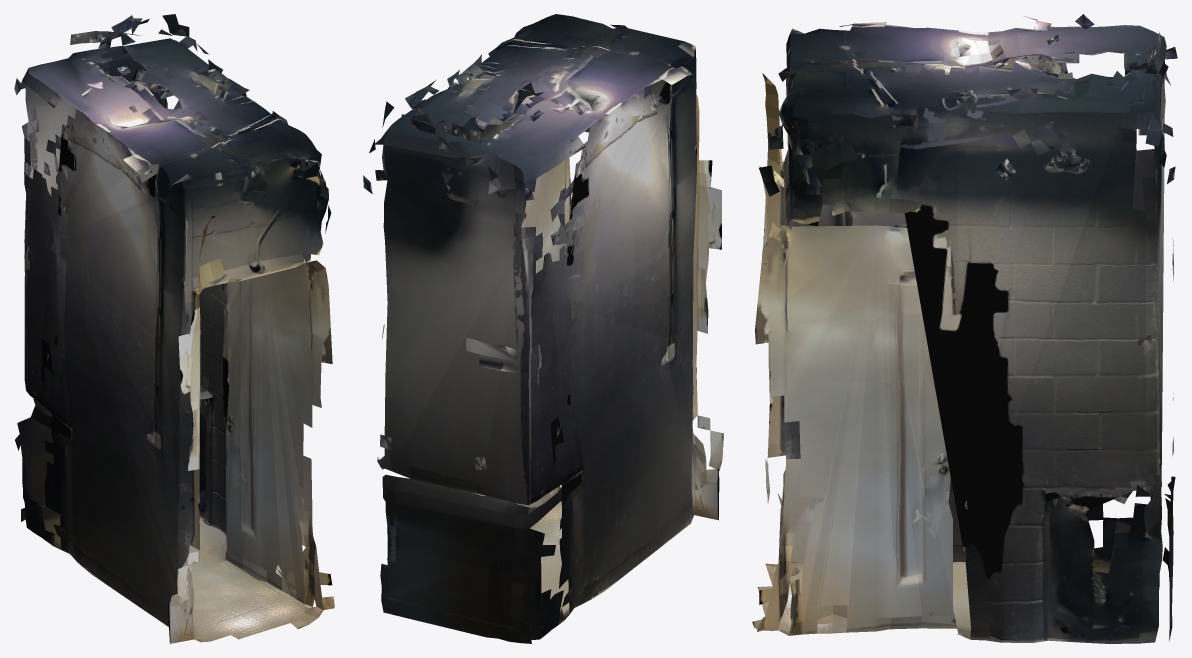
The model's file is Mg_tiny_room-IM.fbx.
The picture shows the model from 3 angles, left to right: view 1: azimuth 30°, elevation 25°; view 2: azimuth 150°, elevation 25°; view 3: azimuth 270°, elevation 25°; orthographic projection. The views are drawn at different scales.
Visible parts, largest first — view 1: Mg_tiny_room-IM; view 2: Mg_tiny_room-IM; view 3: Mg_tiny_room-IM.
Boxes of the visible parts, left/top/right/bottom form: Mg_tiny_room-IM: left=14, top=14, right=334, bottom=643; Mg_tiny_room-IM: left=363, top=14, right=723, bottom=643; Mg_tiny_room-IM: left=752, top=14, right=1177, bottom=643.
Bounding box in the file's own units: 126 × 333 × 227.
Materials: 1 (1 with a texture image).
